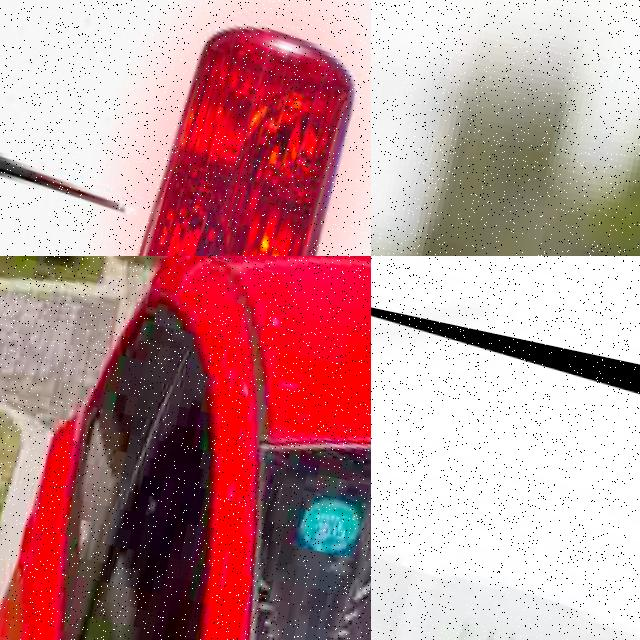drone: (371, 283, 640, 640), (0, 0, 371, 256)
